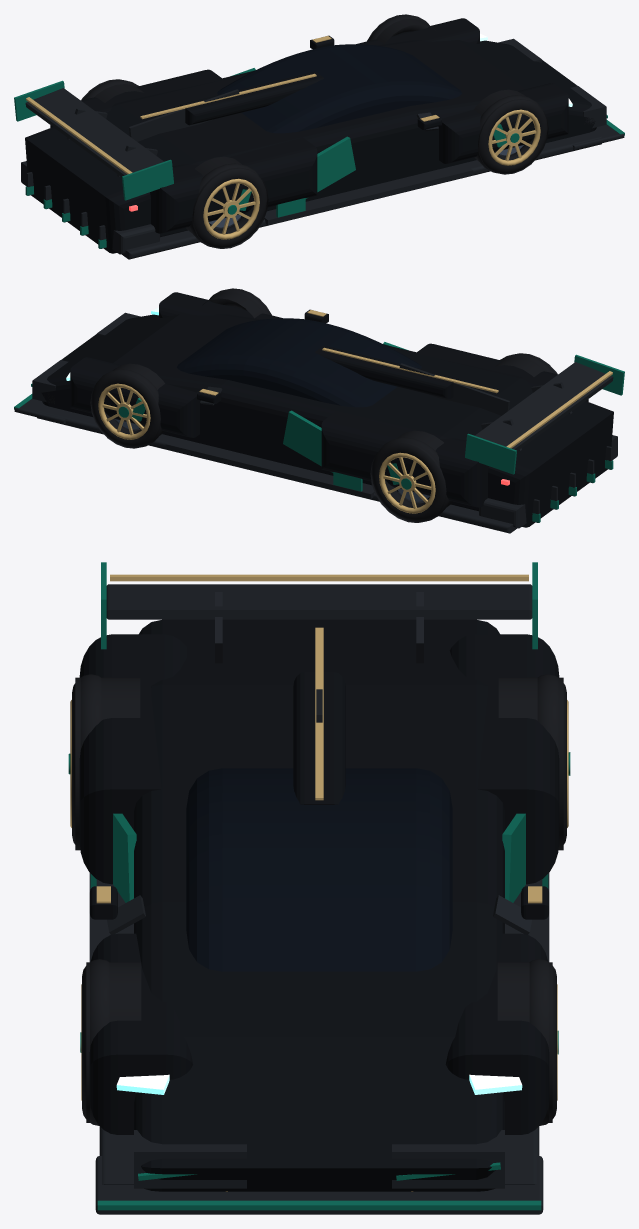
File: veloce_gt9_hypercar.glb
The picture shows the model from 3 angles, top to bottom: view 1: azimuth 30°, elevation 25°; view 2: azimuth 150°, elevation 25°; view 3: azimuth 270°, elevation 25°; orthographic projection. The views are drawn at different scales.
Visible parts, largest first — view 1: GTEX_Veloce_GT9_Hypercar; view 2: GTEX_Veloce_GT9_Hypercar; view 3: GTEX_Veloce_GT9_Hypercar.
Boxes of the visible parts, box(x1,y1,x2,y2) form: GTEX_Veloce_GT9_Hypercar: box(14, 14, 624, 259); GTEX_Veloce_GT9_Hypercar: box(14, 288, 624, 533); GTEX_Veloce_GT9_Hypercar: box(68, 562, 570, 1214).
Size of the model in its own units: 5.81 by 1.08 by 2.49.
